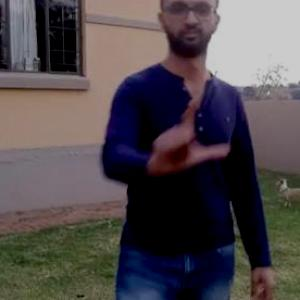land_hand: (144, 88, 232, 178)
